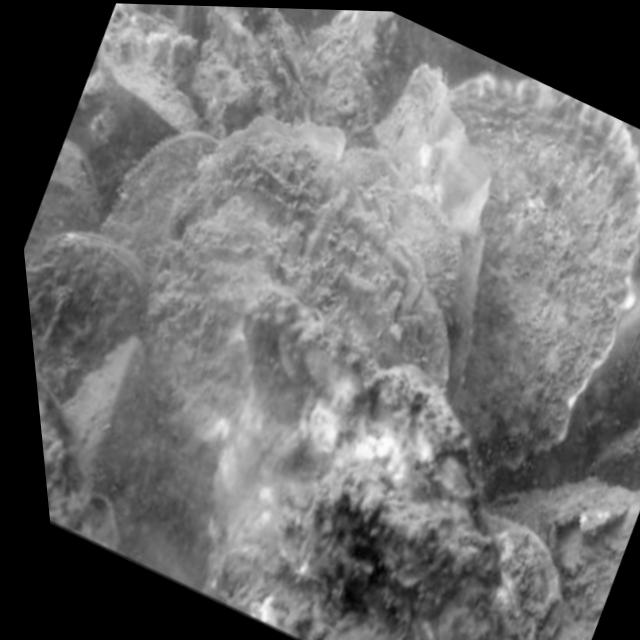Oyster-Closed: (104, 113, 458, 591), (370, 73, 483, 399), (25, 231, 147, 400), (24, 140, 98, 256)
Oyster-Indeterminate: (199, 298, 503, 640), (451, 86, 640, 473), (99, 130, 223, 264), (191, 6, 315, 137), (485, 515, 564, 640)
